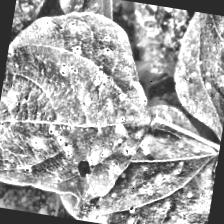Bean Rust: (0, 2, 162, 202), (59, 91, 224, 224), (162, 10, 224, 156), (121, 2, 194, 78), (56, 0, 115, 22)
